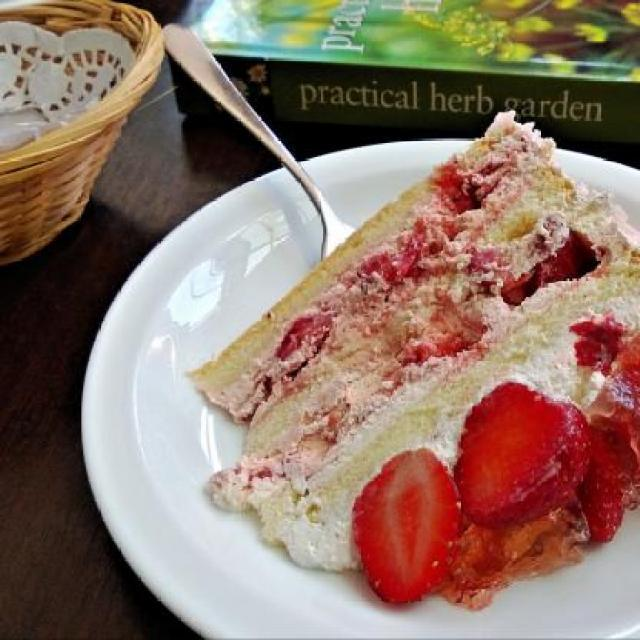Strawberry: (456, 373, 598, 556), (352, 446, 463, 608), (572, 429, 640, 546)
